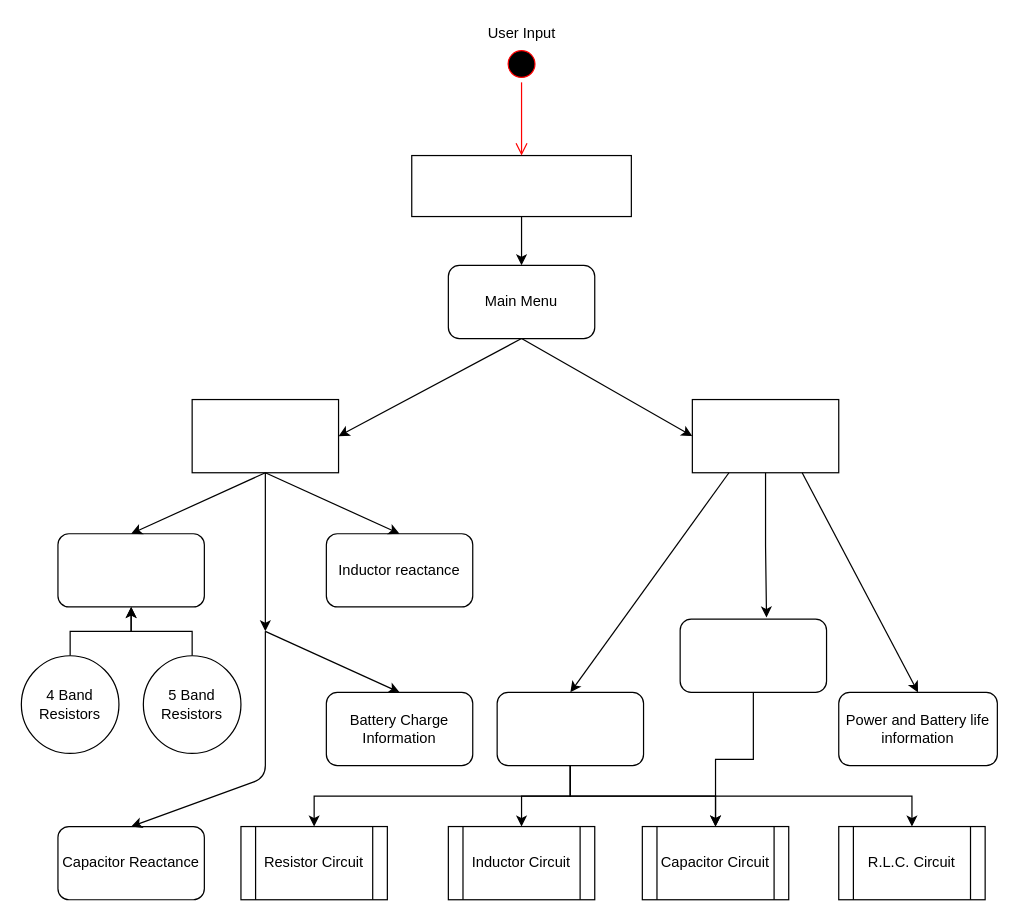
This 1019x921 diagram has some shape labels left out. Each missing label, with the centre of its shape:
"1. Information about components" goes at point (265, 435).
"2. Circuit Attributes" goes at point (765, 435).
"Electronic Circuit Analyzer" goes at point (521, 185).
"Parallel Circuit Analysis" goes at point (753, 655).
"Resistor Info by Color Codes" goes at point (130, 570).
"Series Circuit Analysis" goes at point (570, 728).
